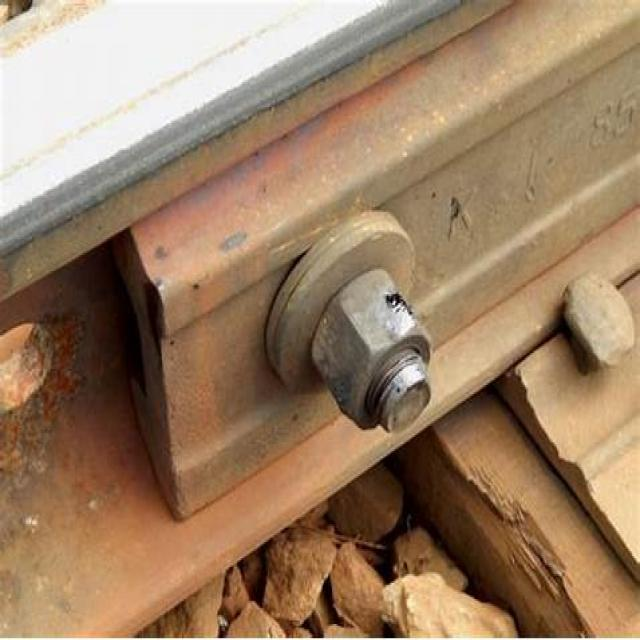bolt nut: (310, 264, 432, 433)
